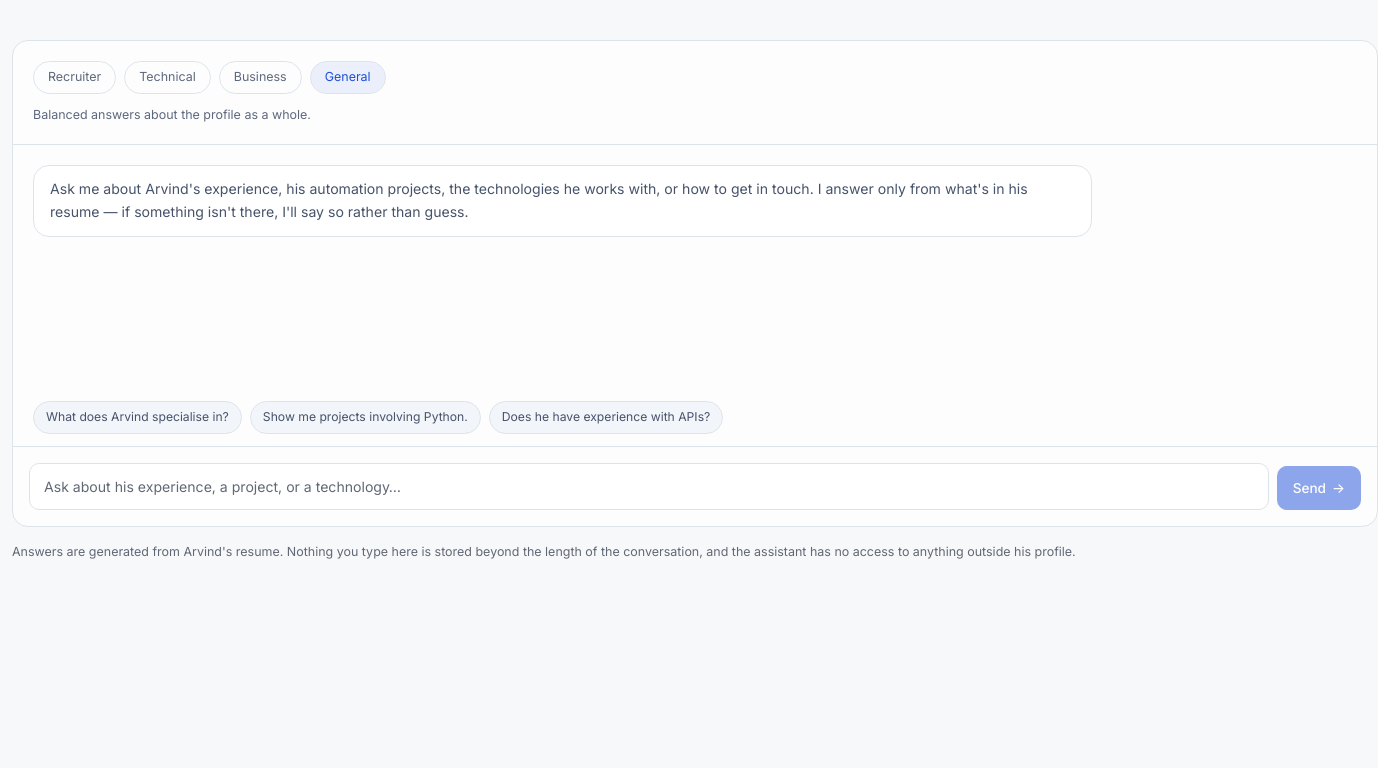
Test case: Assistant › shows a friendly message when the API returns an error
Type "Hello?" into the text box with test id "assistant-input" at {"x": 649, "y": 486}, box [29, 463, 1269, 510]
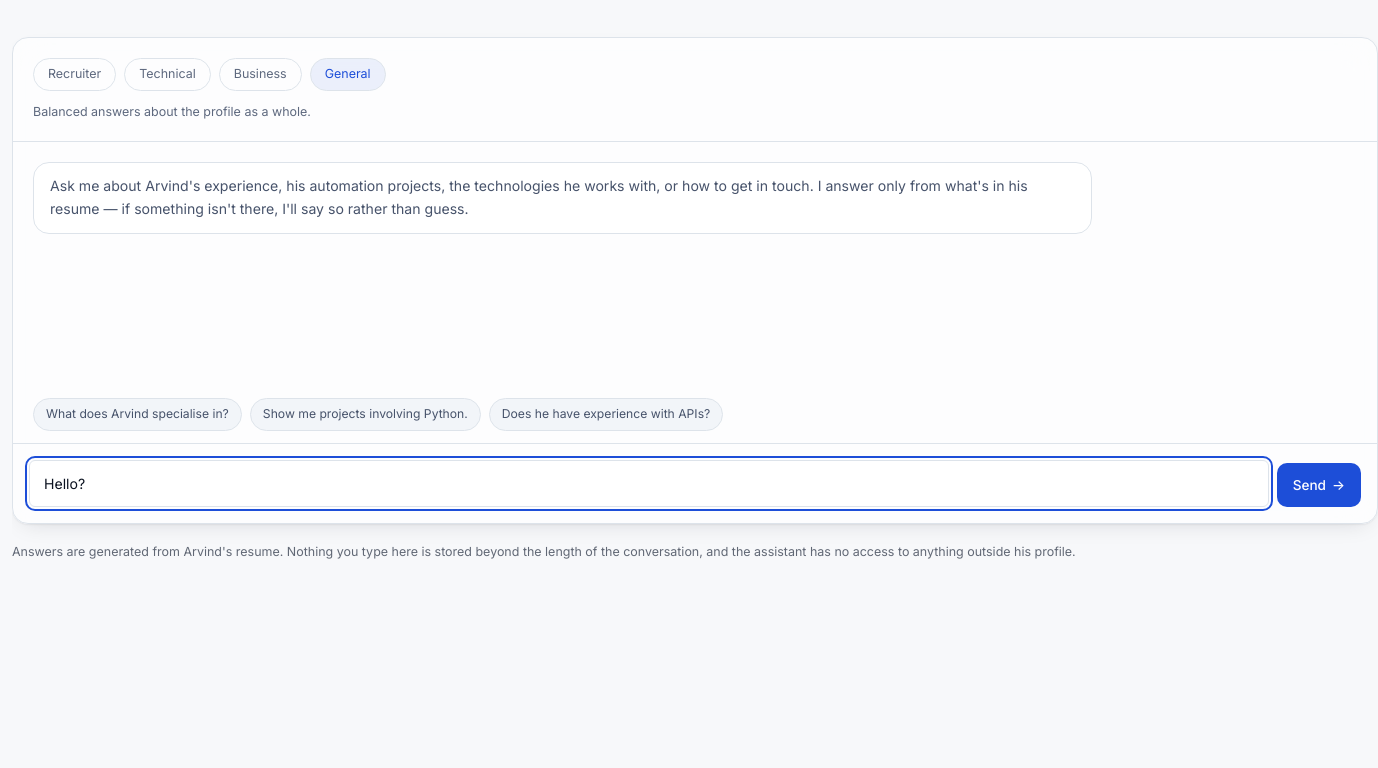
Click the button with test id "assistant-send" at {"x": 1319, "y": 485}, box [1277, 463, 1361, 507]
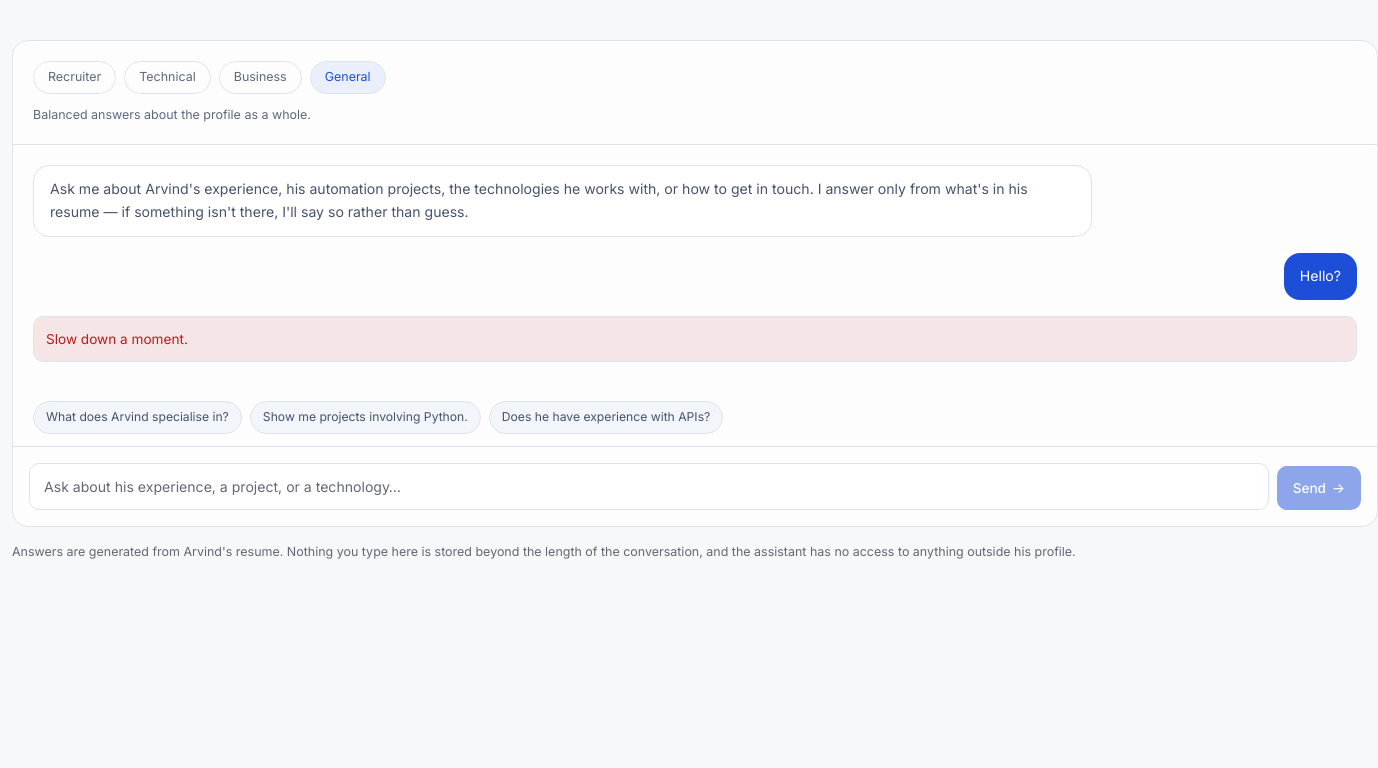
Expected: the message with test id "assistant-error" reads "Slow down a moment.", [46, 331, 188, 347]
